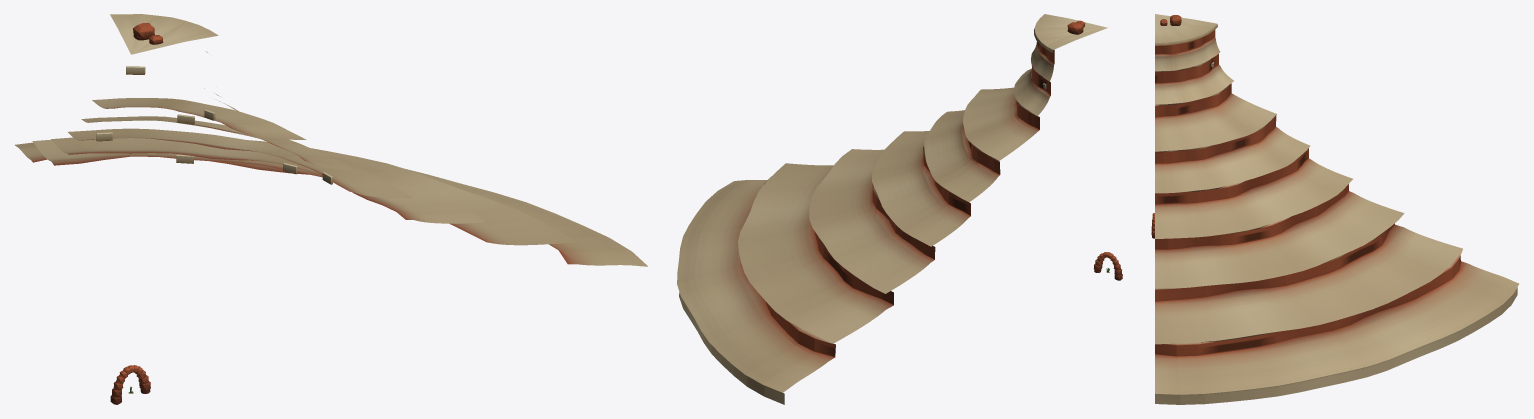
The model's file is canyon-s5-BE8dz38z.glb.
3 renders of one model, left to right at view 1: azimuth 30°, elevation 25°; view 2: azimuth 150°, elevation 25°; view 3: azimuth 270°, elevation 25°, orthographic. The views are drawn at different scales.
Parts seen in each view (by area): view 1: sc_landmark_0, sc_arch; view 2: sc_landmark_0; view 3: sc_landmark_0.
Boxes of the visible parts, left/top/right/bottom form: sc_landmark_0: left=15, top=14, right=647, bottom=266; sc_arch: left=110, top=365, right=150, bottom=404; sc_landmark_0: left=677, top=14, right=1107, bottom=404; sc_landmark_0: left=1155, top=14, right=1518, bottom=404.
Bounding box in the file's own units: 447 × 290 × 411.
